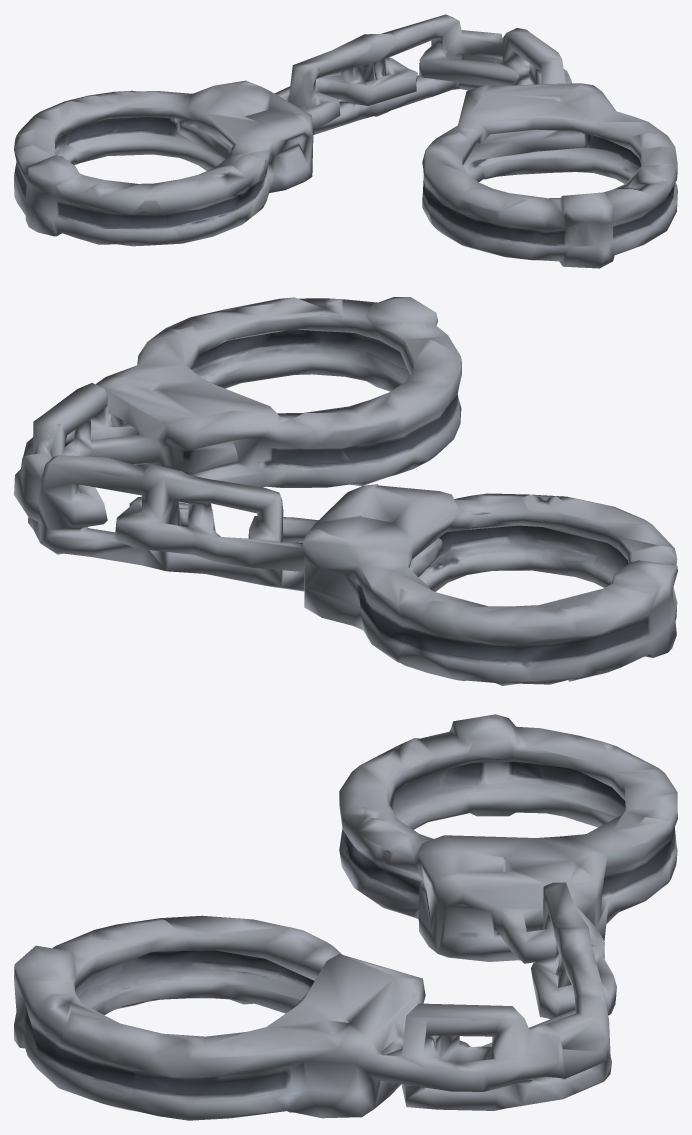
File: handcuffs.glb
3 views of the same model, one above another, from view 1: azimuth 30°, elevation 25°; view 2: azimuth 150°, elevation 25°; view 3: azimuth 270°, elevation 25° (orthographic). The views are drawn at different scales.
Visible parts, largest first — view 1: material; view 2: material; view 3: material.
Boxes of the visible parts, left/top/right/bottom form: material: left=14, top=14, right=677, bottom=268; material: left=14, top=297, right=677, bottom=685; material: left=14, top=714, right=677, bottom=1120.
Size of the model in its own units: 1.08 by 0.1651 by 0.9033.
Materials: 1 (1 with a texture image).
